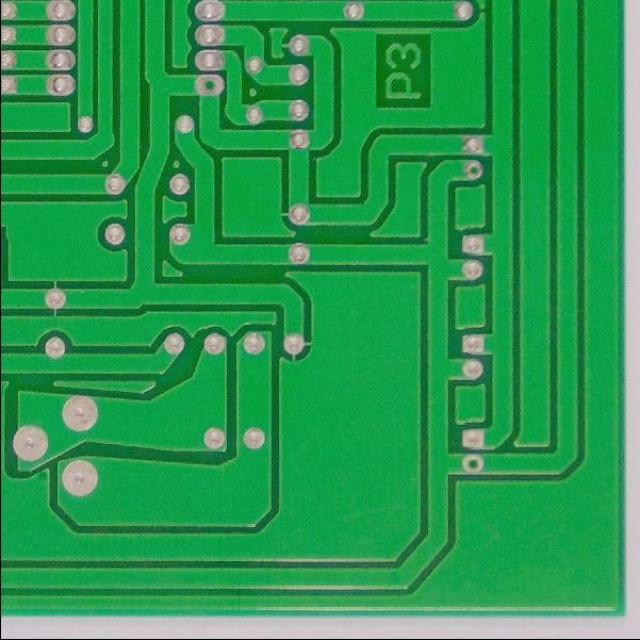missing_hole: (456, 451, 492, 478), (458, 158, 489, 188), (194, 74, 221, 101)
